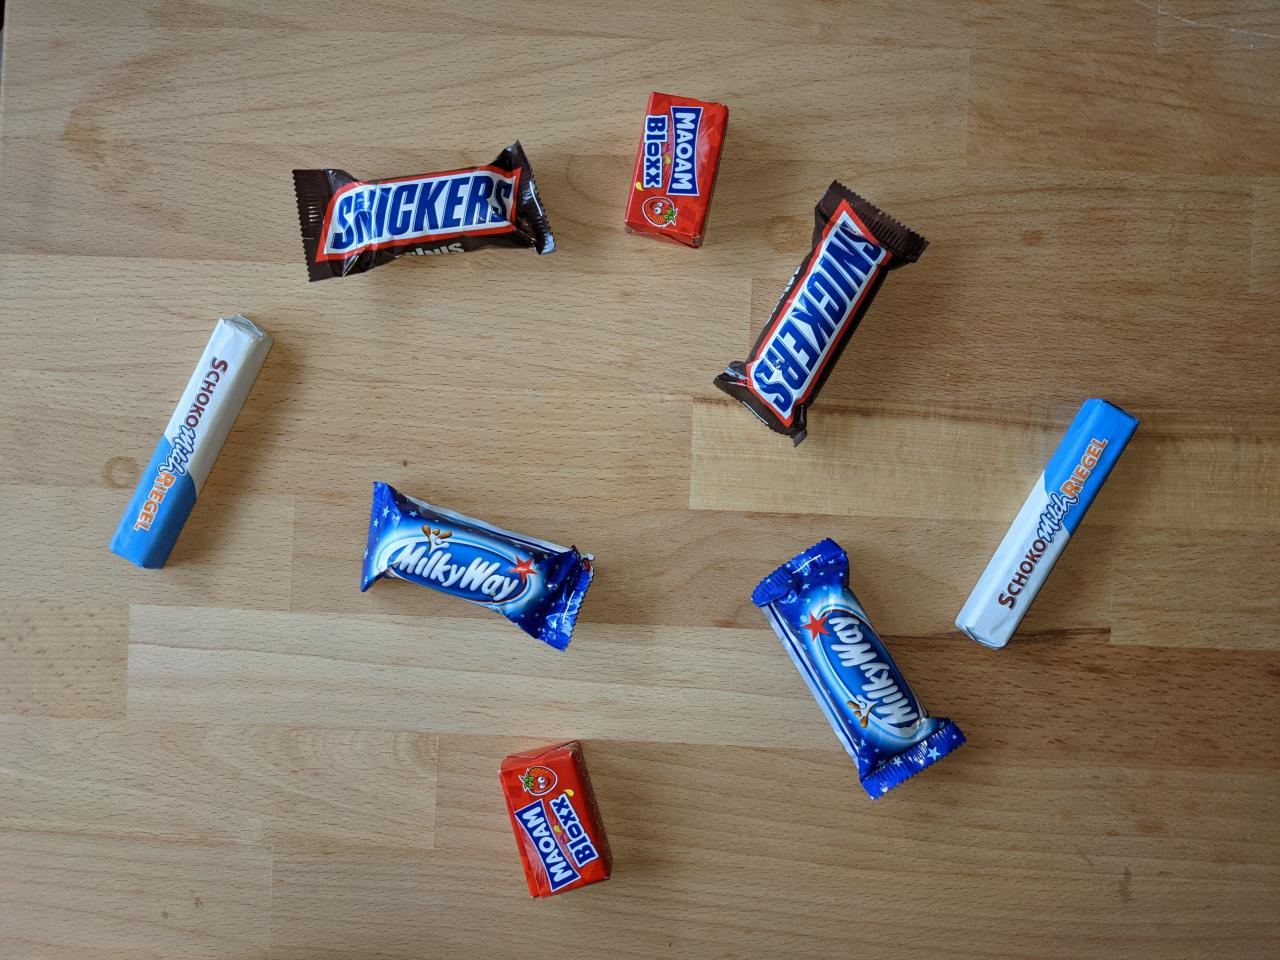MAOAM: (492, 735, 620, 908), (619, 87, 735, 254)
MilkyWay: (744, 533, 972, 805), (355, 475, 603, 656)
Schokoriegel: (951, 392, 1145, 658), (101, 308, 279, 576)
Snickers: (708, 175, 936, 452), (284, 137, 561, 287)
